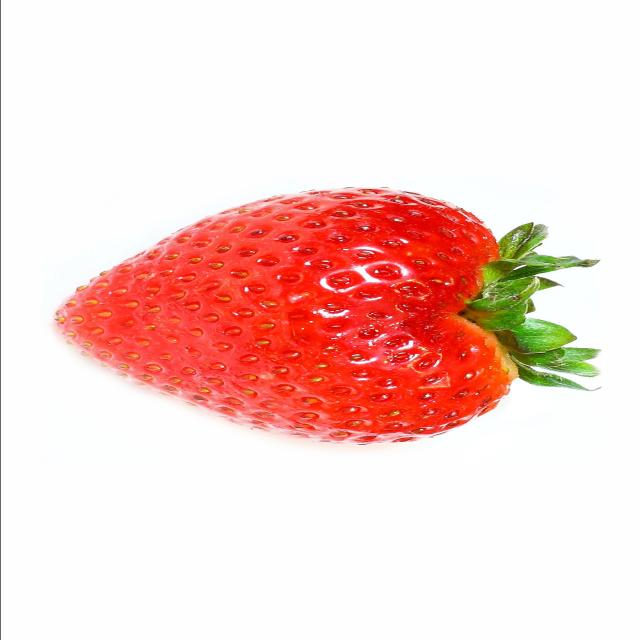strawberry: (28, 172, 629, 454)
